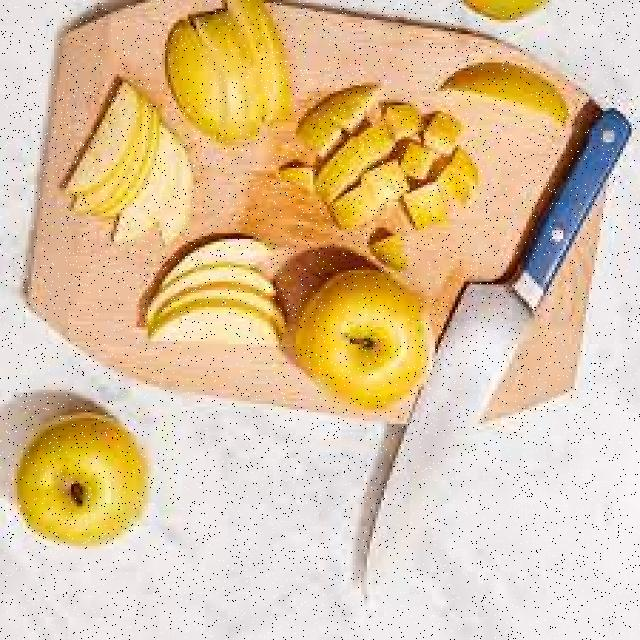Apple: (289, 94, 465, 270), (296, 272, 436, 412), (17, 409, 151, 549), (167, 2, 281, 148), (61, 64, 140, 194), (439, 61, 587, 123), (149, 308, 286, 346), (118, 173, 190, 243), (168, 232, 276, 277)
